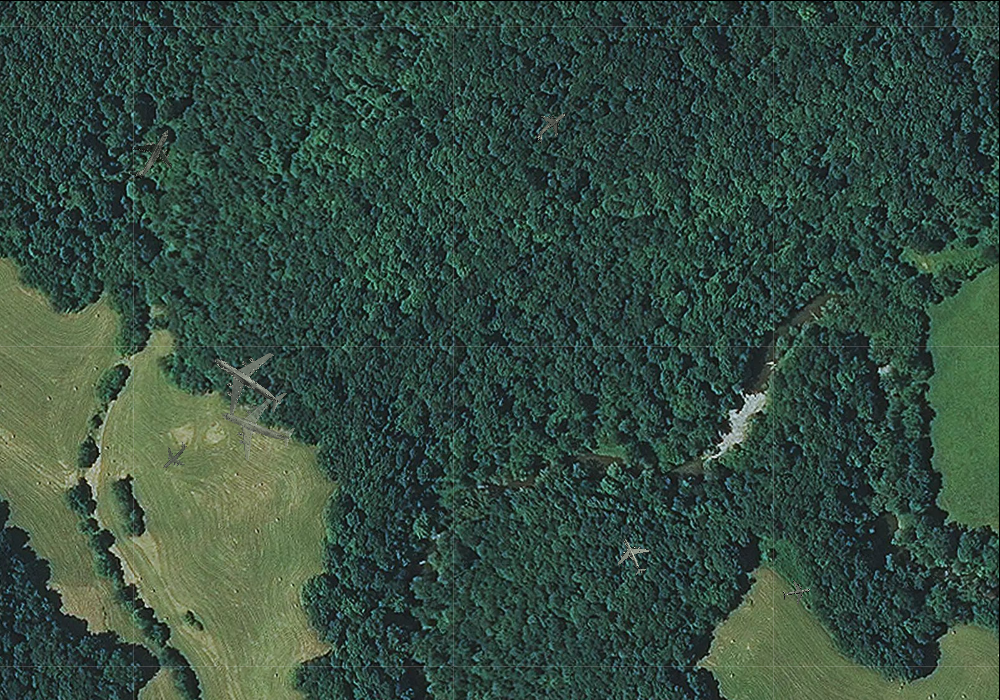plane: (194, 329, 301, 434), (208, 379, 304, 474), (115, 116, 187, 191), (525, 101, 577, 151), (608, 530, 657, 581), (152, 434, 196, 478), (781, 577, 813, 608)
